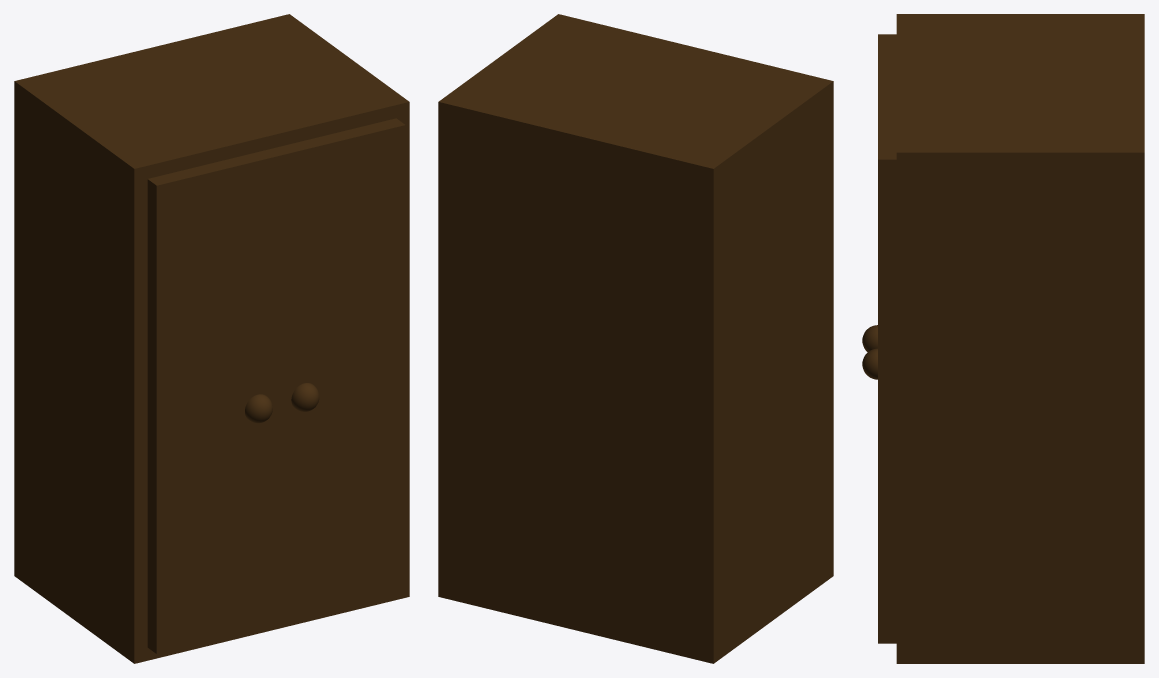
Rendered from Closet Wiggling.fbx.
3 renders of one model, left to right at view 1: azimuth 30°, elevation 25°; view 2: azimuth 150°, elevation 25°; view 3: azimuth 270°, elevation 25°, orthographic. The views are drawn at different scales.
Visible parts, largest first — view 1: polySurface5; view 2: polySurface5; view 3: polySurface5.
Part boxes in pixels (left/top/right/bottom): polySurface5: left=14, top=14, right=409, bottom=663; polySurface5: left=438, top=14, right=833, bottom=663; polySurface5: left=862, top=14, right=1144, bottom=663.
Size of the model in its own units: 7.15 by 12.29 by 6.15.
